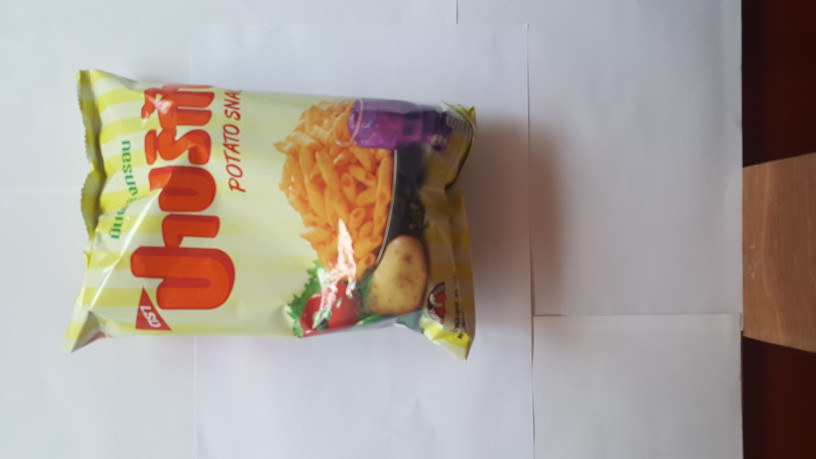paprika: (44, 61, 502, 375)
